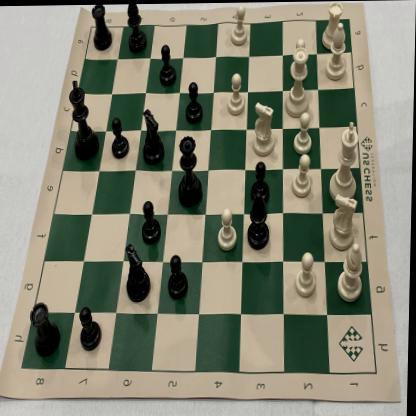black-bishop: (246, 192, 272, 253), (124, 3, 148, 54)
black-king: (66, 78, 102, 162)
black-knight: (122, 239, 154, 304), (142, 106, 168, 166)
black-pawn: (78, 303, 106, 352), (168, 252, 191, 300), (141, 199, 163, 246), (110, 116, 132, 160), (251, 160, 272, 204), (185, 79, 205, 124), (158, 43, 178, 87)
black-queen: (176, 134, 205, 209)
black-rook: (30, 299, 64, 358), (89, 3, 113, 52)
white-bishop: (322, 23, 352, 82), (338, 242, 366, 302)
white-king: (329, 121, 361, 202)
white-knight: (328, 192, 361, 252), (250, 100, 277, 158)
white-pawn: (294, 250, 321, 299), (292, 154, 316, 200), (293, 111, 315, 156), (226, 72, 247, 119), (229, 2, 250, 48), (219, 206, 240, 252), (290, 37, 310, 82)
white-queen: (284, 47, 310, 119)
white-rook: (319, 1, 347, 52)
